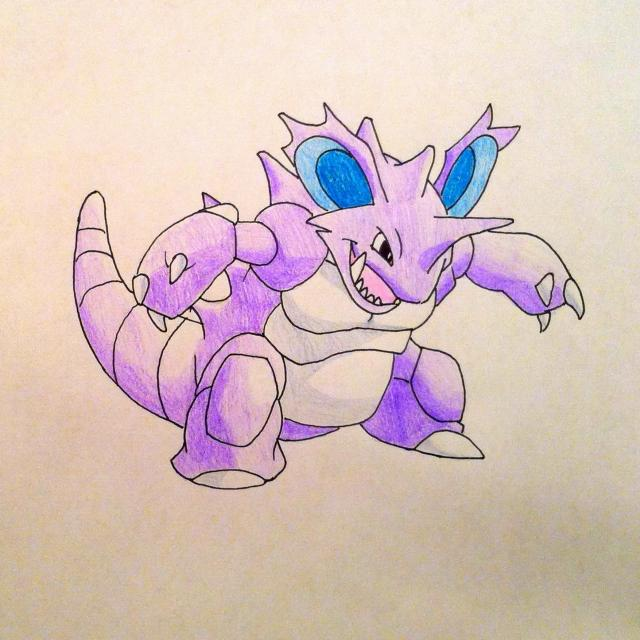Nidoking: (57, 80, 596, 510)
